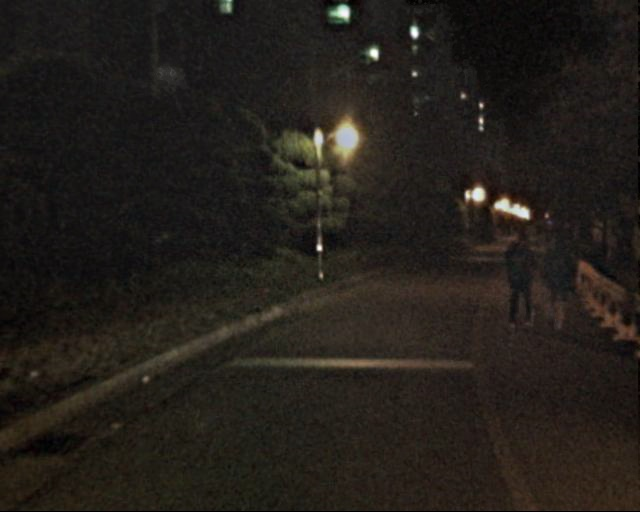person: (496, 230, 539, 334), (530, 231, 573, 335)
